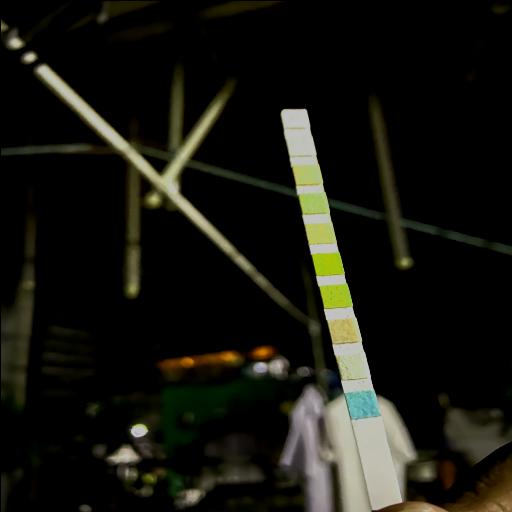Bilirubin: (340, 355, 364, 377)
Blood: (316, 254, 338, 272)
Glucose: (348, 392, 374, 416)
Ketone: (332, 320, 356, 340)
Leukocytes: (284, 110, 306, 126)
Nitrite: (289, 138, 312, 154)
Protein: (301, 194, 324, 212)
SpGravity: (324, 286, 348, 305)
Urobilinogen: (296, 166, 318, 182)
pH: (308, 224, 332, 241)
strip: (280, 108, 402, 509)
